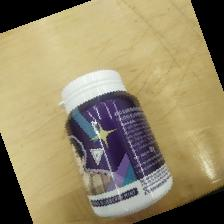Xylitol_BTS: (57, 69, 175, 221)
